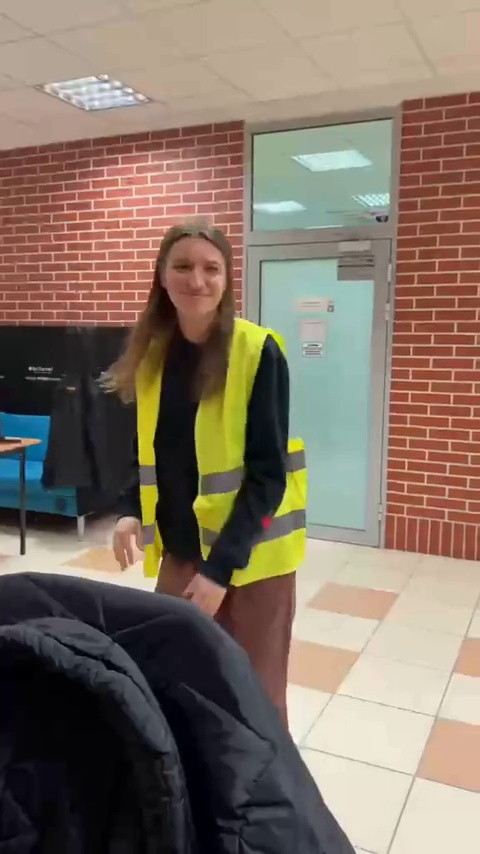vest: (99, 210, 316, 631)
